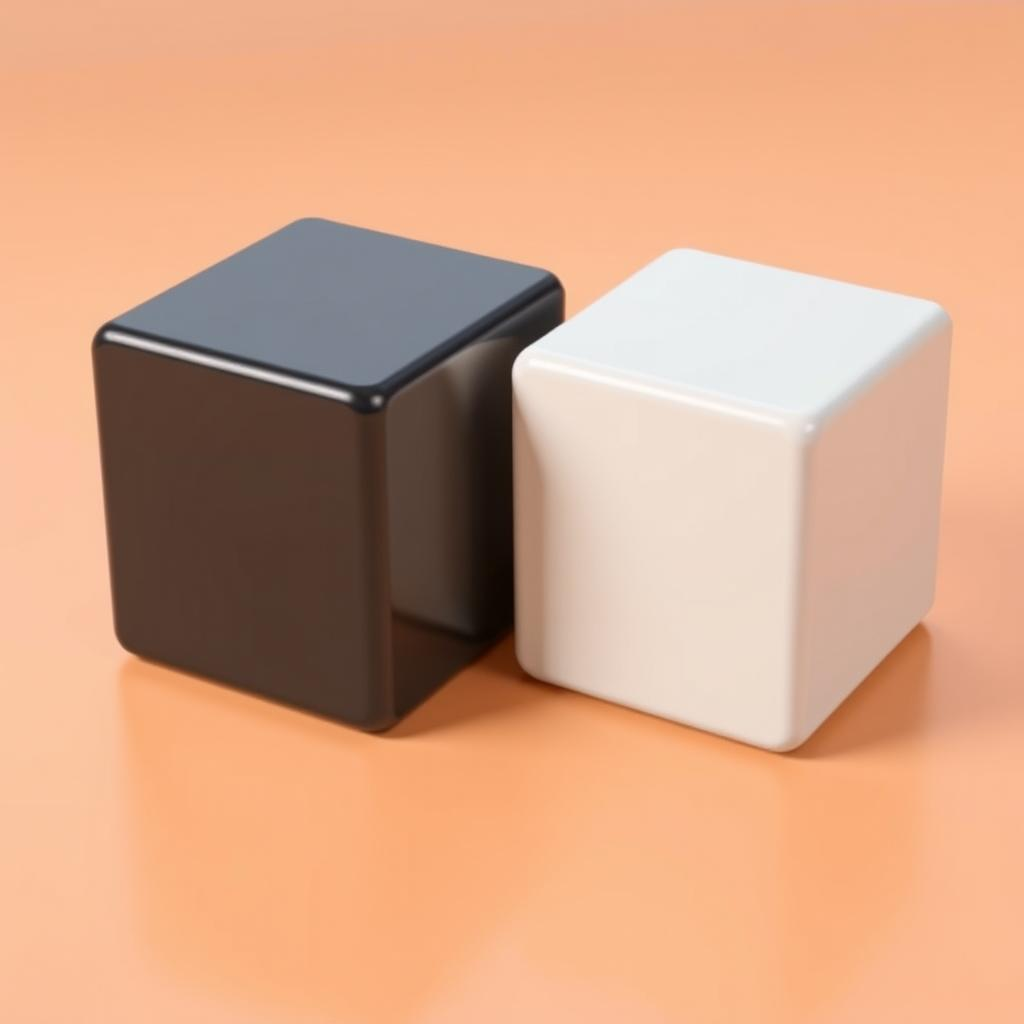cube: (90, 214, 565, 733), (509, 244, 952, 753)
